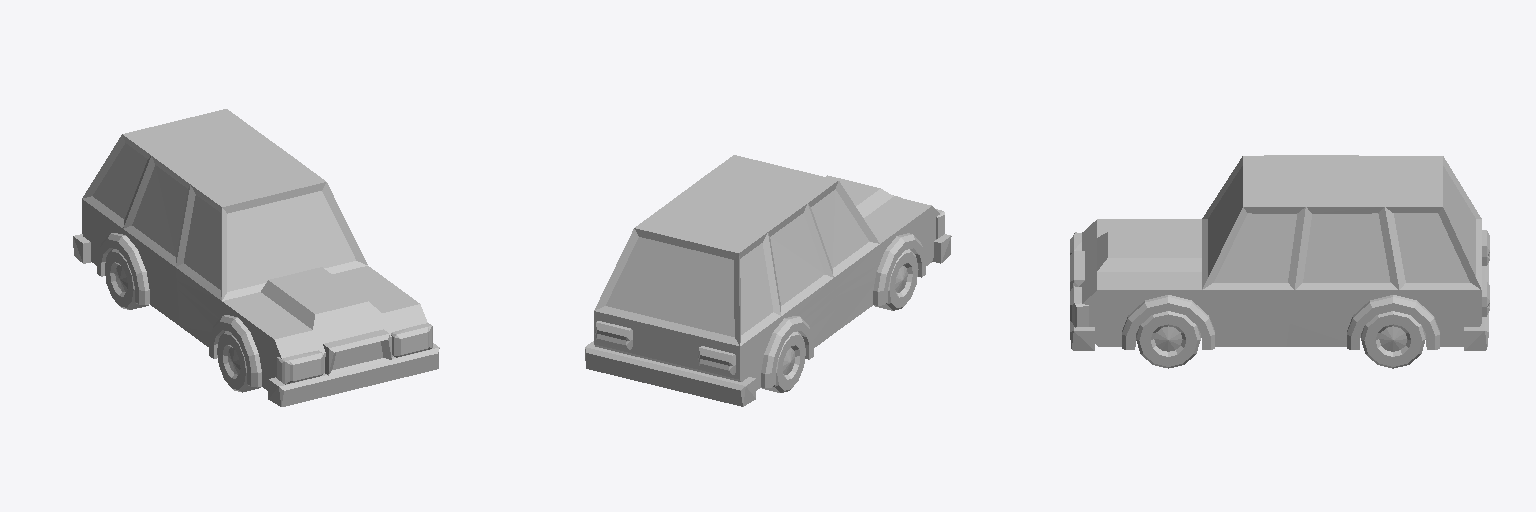
Rendered from car_stationwagon_full.obj.
The picture shows the model from 3 angles: view 1: azimuth 30°, elevation 25°; view 2: azimuth 150°, elevation 25°; view 3: azimuth 270°, elevation 25°; orthographic projection.
Visible parts, largest first — view 1: car_stationwagon_Cube.13728, car_stationwagon_wheel_rear_right_Cylinder.290, car_stationwagon_wheel_front_right_Cylinder.289; view 2: car_stationwagon_Cube.13728, car_stationwagon_wheel_front_right_Cylinder.289, car_stationwagon_wheel_rear_right_Cylinder.290; view 3: car_stationwagon_Cube.13728, car_stationwagon_wheel_front_left_Cylinder.287, car_stationwagon_wheel_rear_left_Cylinder.288.
Boxes of the visible parts, <box> form: car_stationwagon_Cube.13728: <box>73,109,439,406</box>; car_stationwagon_wheel_rear_right_Cylinder.290: <box>105,249,148,309</box>; car_stationwagon_wheel_front_right_Cylinder.289: <box>217,331,260,392</box>; car_stationwagon_Cube.13728: <box>585,155,951,406</box>; car_stationwagon_wheel_front_right_Cylinder.289: <box>874,249,918,310</box>; car_stationwagon_wheel_rear_right_Cylinder.290: <box>761,331,805,392</box>; car_stationwagon_Cube.13728: <box>1070,155,1489,350</box>; car_stationwagon_wheel_front_left_Cylinder.287: <box>1136,311,1200,368</box>; car_stationwagon_wheel_rear_left_Cylinder.288: <box>1361,311,1425,368</box>.
Size of the model in its own units: 0.419 by 0.3688 by 0.9381.